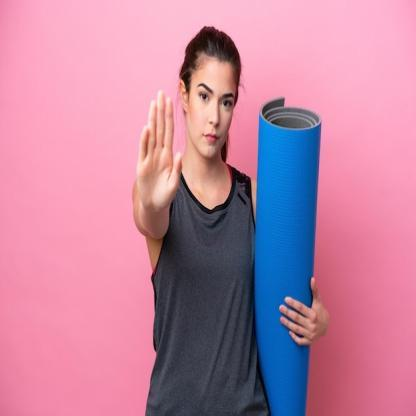stop: (136, 86, 184, 213)
